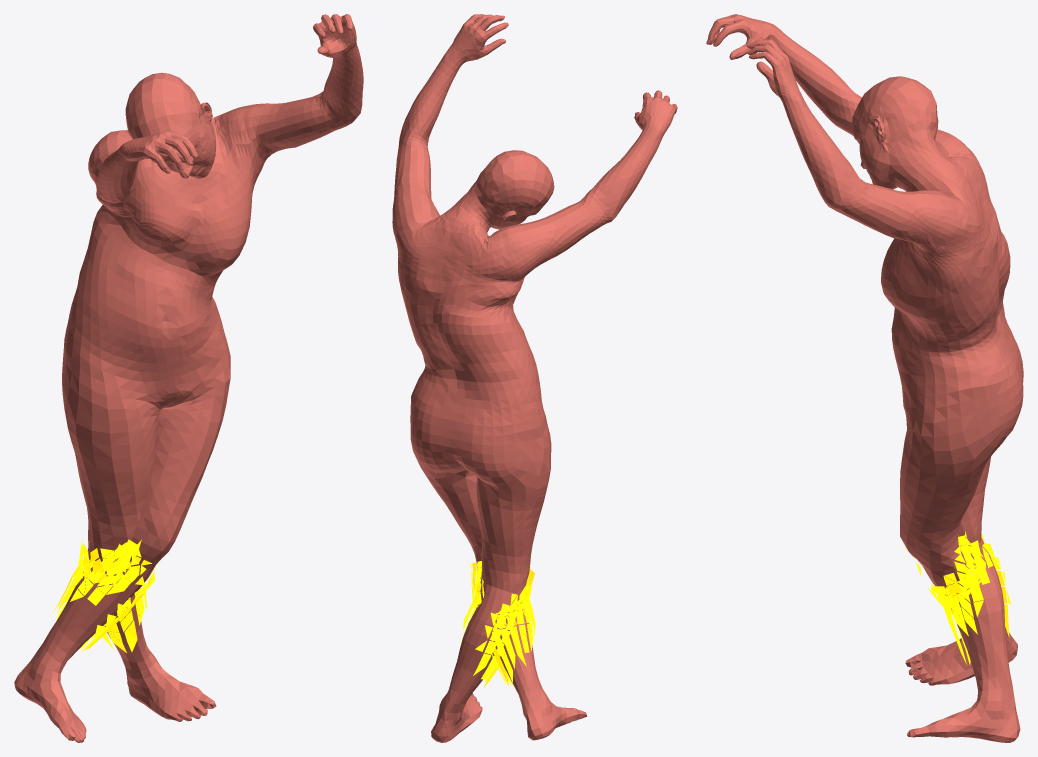
Rendered from hwc_collision_09.glb.
3 renders of one model, left to right at view 1: azimuth 30°, elevation 25°; view 2: azimuth 150°, elevation 25°; view 3: azimuth 270°, elevation 25°, orthographic. The views are drawn at different scales.
Visible parts, largest first — view 1: hwc_collision, collision_marker; view 2: hwc_collision, collision_marker; view 3: hwc_collision, collision_marker.
Boxes of the visible parts, x1=… form: hwc_collision: x1=14, y1=14, x2=363, y2=742; collision_marker: x1=52, y1=539, x2=156, y2=652; hwc_collision: x1=392, y1=14, x2=677, y2=742; collision_marker: x1=461, y1=561, x2=535, y2=688; hwc_collision: x1=706, y1=14, x2=1023, y2=742; collision_marker: x1=905, y1=531, x2=1010, y2=664.
Bounding box in the file's own units: 0.683 × 1.8 × 0.7048.
